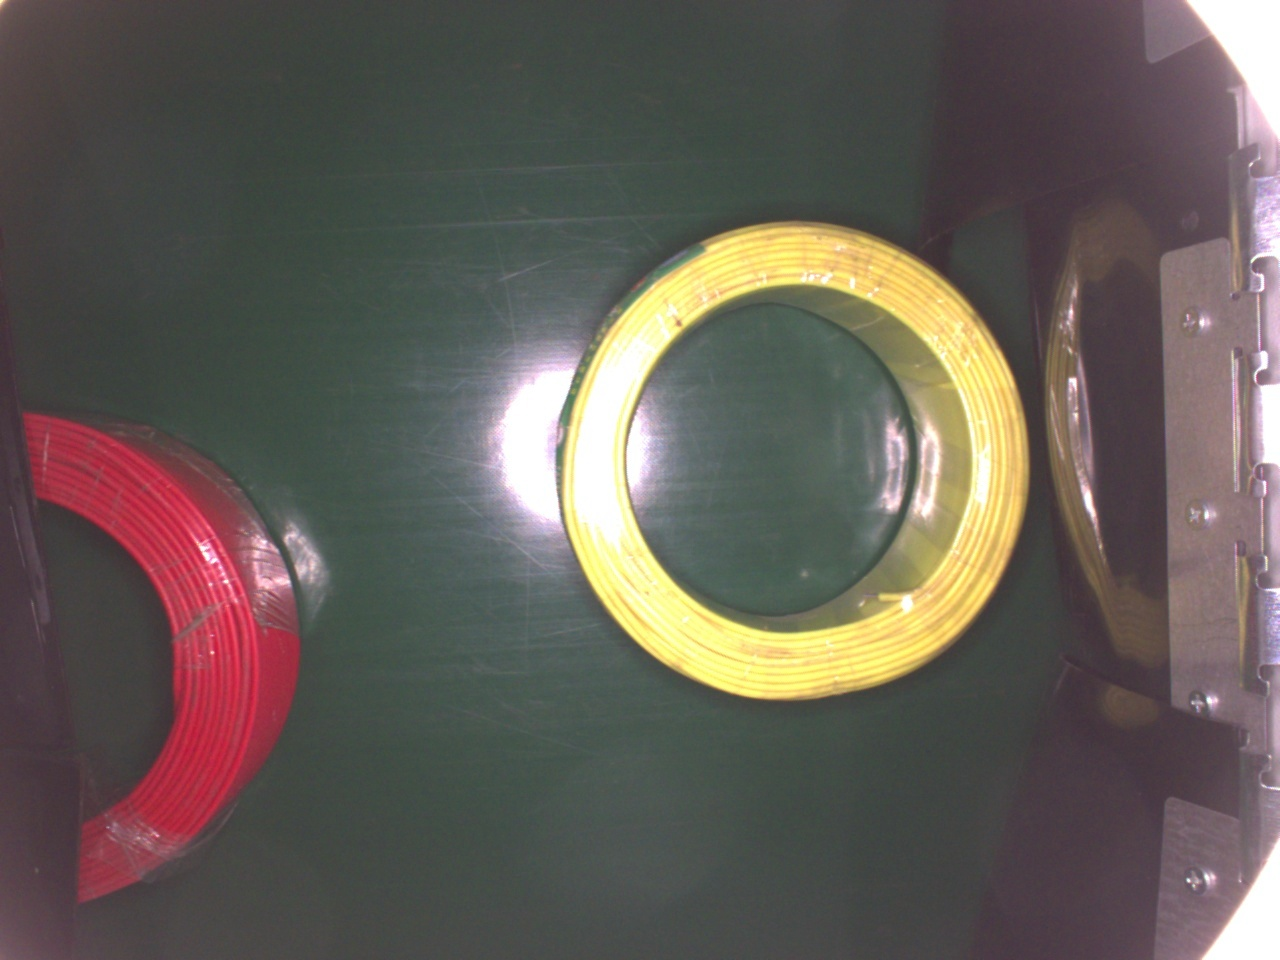red: (26, 402, 301, 903)
yellow: (554, 218, 1025, 705)
